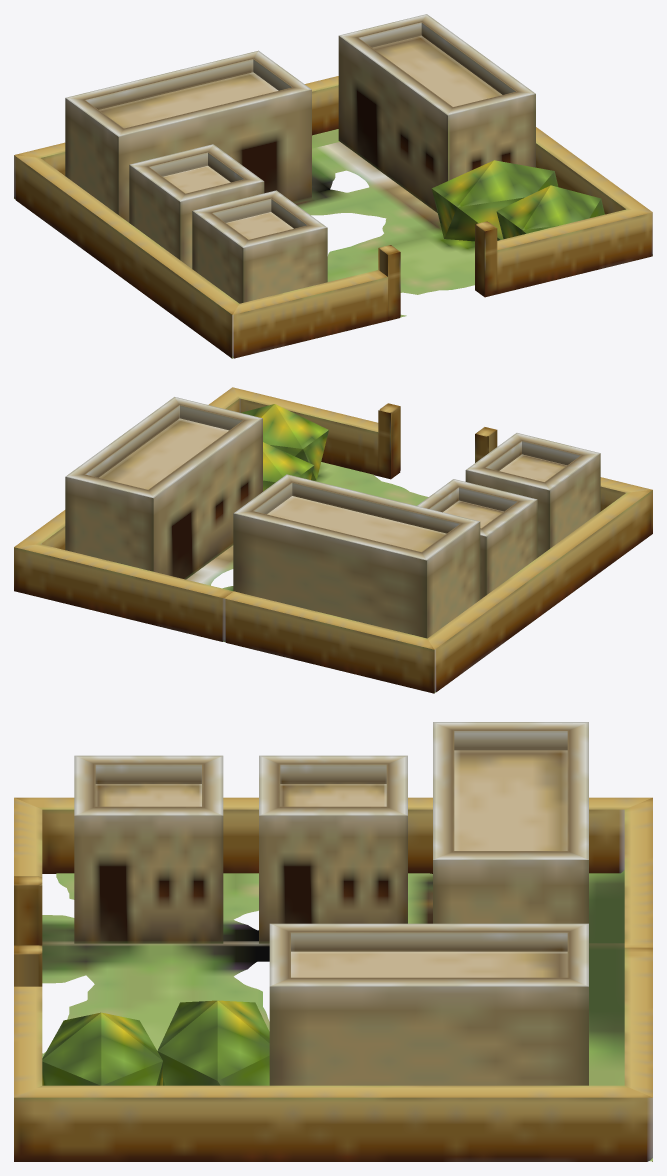
The model's file is Poly_World_Map_Town_House_11.obj.
The picture shows the model from 3 angles, top to bottom: view 1: azimuth 30°, elevation 25°; view 2: azimuth 150°, elevation 25°; view 3: azimuth 270°, elevation 25°; orthographic projection. The views are drawn at different scales.
Parts seen in each view (by area): view 1: Cube.002_Cube.001, Grid, Plane; view 2: Cube.002_Cube.001, Grid, Plane; view 3: Cube.002_Cube.001, Grid, Plane.
Part boxes in pixels (left/top/right/bottom): Cube.002_Cube.001: left=65, top=14, right=535, bottom=303; Grid: left=14, top=76, right=652, bottom=358; Plane: left=14, top=129, right=652, bottom=358; Cube.002_Cube.001: left=65, top=397, right=600, bottom=638; Grid: left=14, top=387, right=652, bottom=693; Plane: left=186, top=404, right=435, bottom=692; Cube.002_Cube.001: left=74, top=722, right=588, bottom=1085; Grid: left=14, top=797, right=652, bottom=1161; Plane: left=42, top=870, right=652, bottom=1161.
Bounding box in the file's own units: 1 × 0.25 × 0.9.
Materials: 1 (1 with a texture image).
